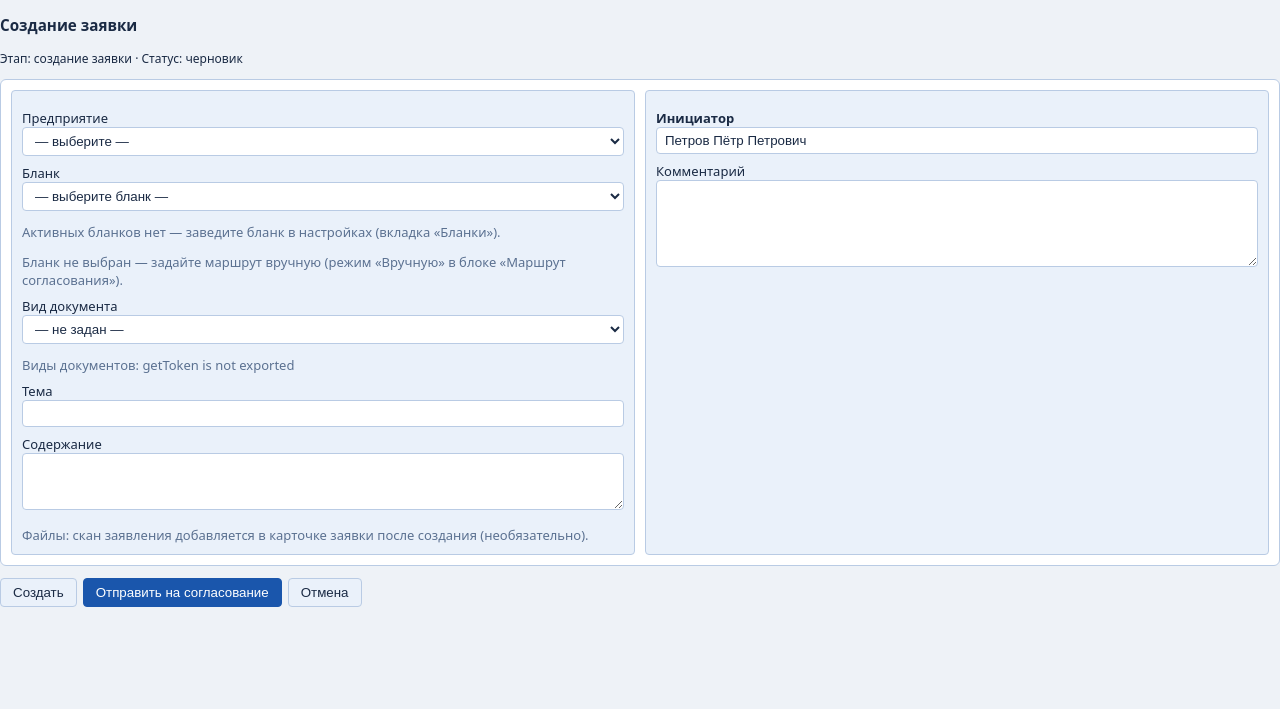
Test: CreateForm › живой поиск: пейджер с большим числом страниц (окно + «…», Первая/Последняя)
Select "Предприятие «Пример-1» (вымышленное)" in the dropdown labelled "Предприятие" at (323, 142), box [22,127,624,156]
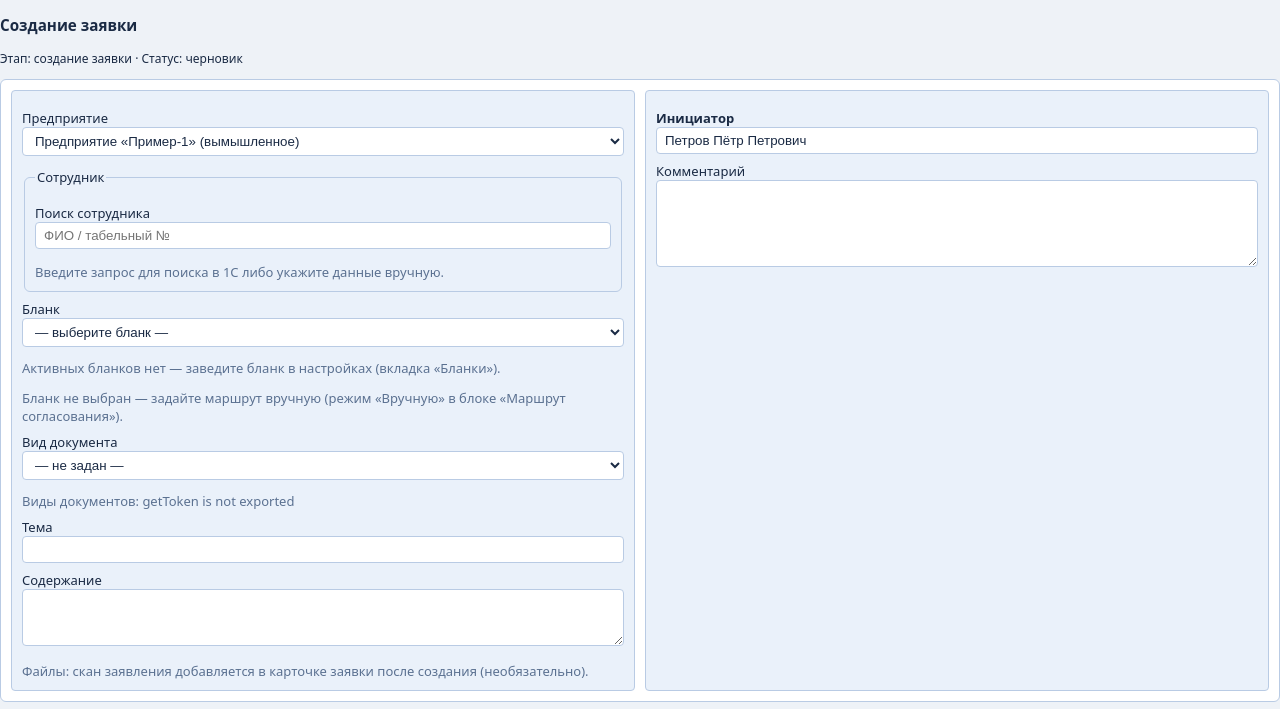
Type "Громов" into the field labelled "Поиск сотрудника" at (323, 236), box [35,222,611,249]
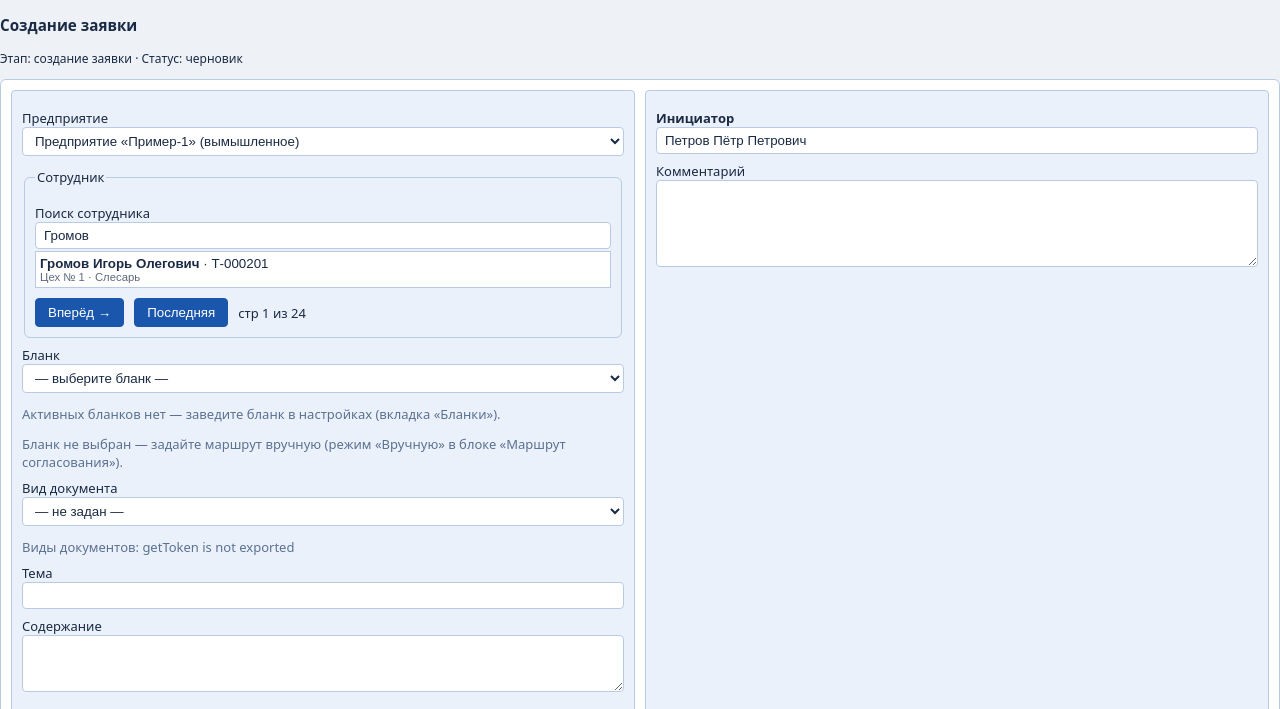
Check: the text "стр 1 из 24" is shown, box [238,304,306,322]
Check: the button named "Страница 2" is shown, box [252,259,285,288]
Check: the button named "Страница 3" is shown, box [295,259,328,288]
